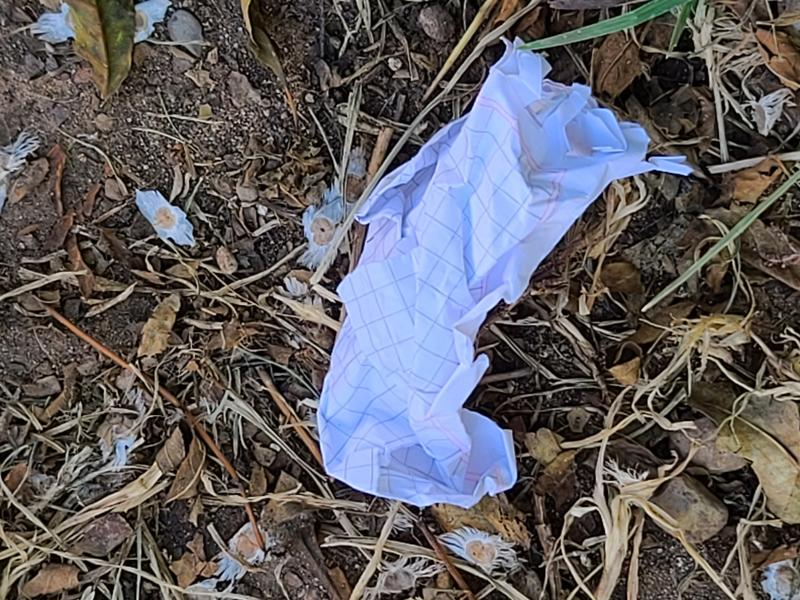papel: (316, 42, 679, 511)
